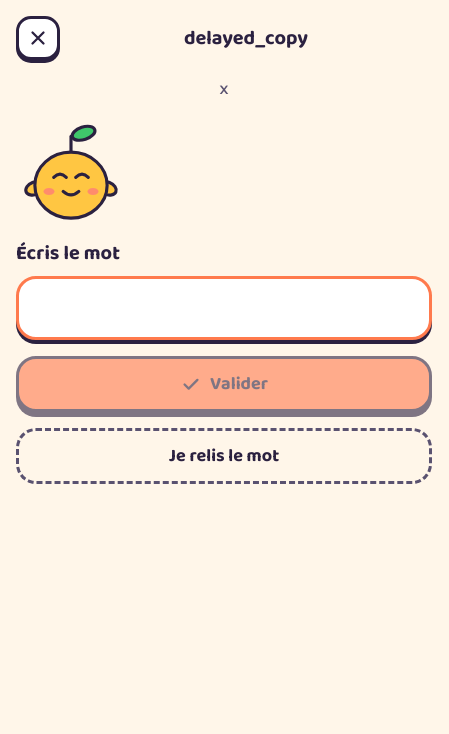
GameScreen, the right answer after a wrong one › the flash dictation gives back its word
Type "chanté" into the field labelled "Écris le mot" at (224, 308), box [16,276,432,340]
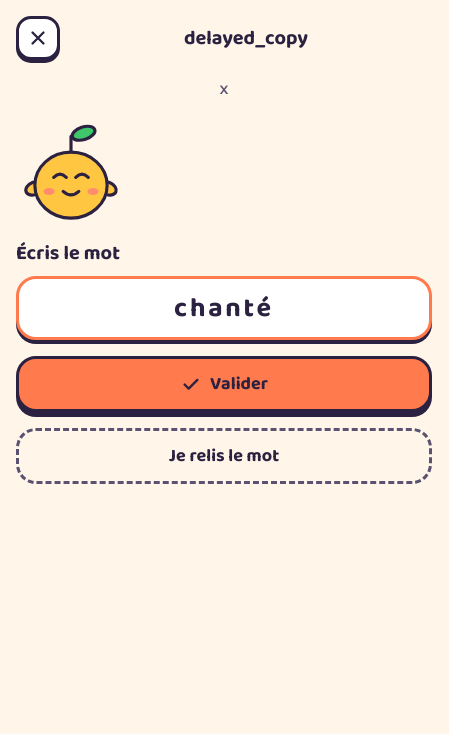
Click the button "Valider" at (224, 384), box [16,356,432,412]
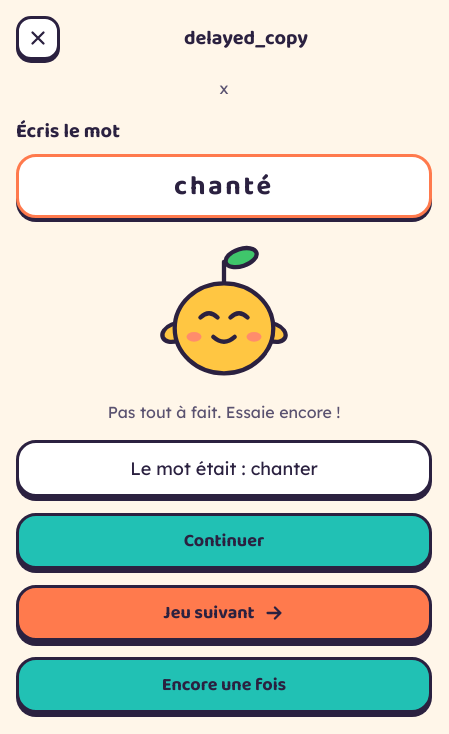
Expected: the message reads "Le mot était : chanter", [130,457,318,480]
